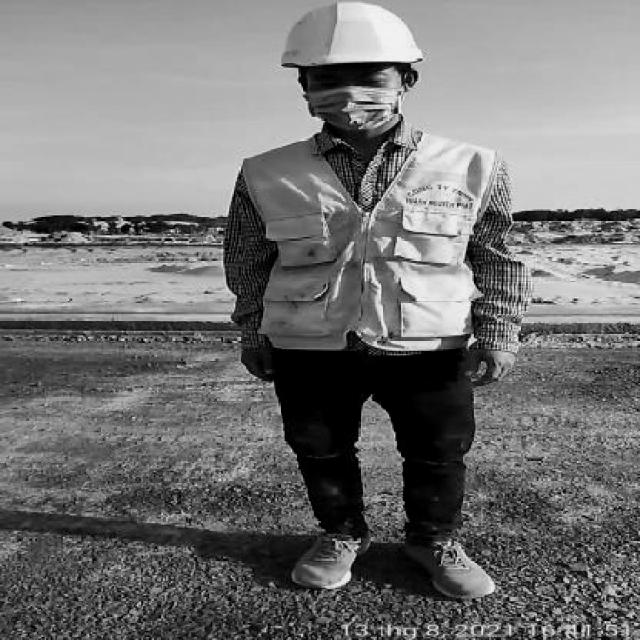face_nomask: (308, 88, 410, 144)
hand_noglove: (478, 336, 558, 410), (174, 355, 240, 423)
head_helmet: (286, 45, 445, 100)
person: (182, 42, 546, 638)
shoes: (226, 554, 340, 638), (346, 550, 480, 613)
